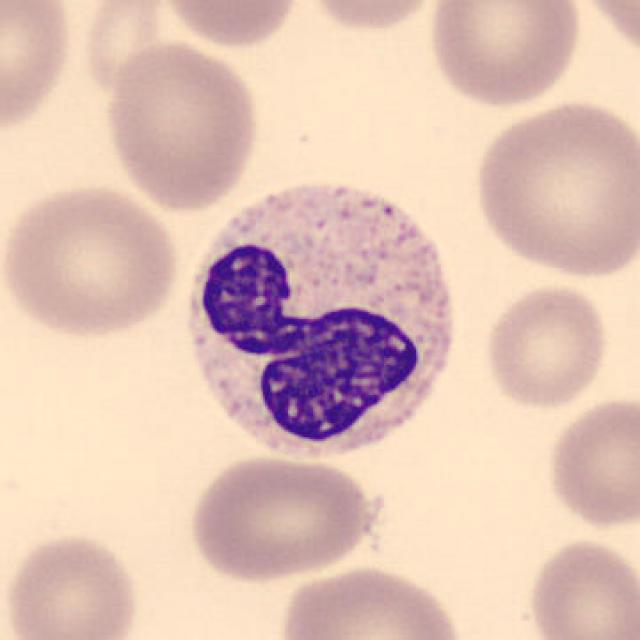Neutrophil: (169, 164, 471, 476)
RBC: (468, 94, 638, 282), (0, 180, 185, 342), (100, 37, 263, 213), (181, 452, 386, 586), (423, 0, 585, 111), (480, 278, 613, 412), (0, 529, 144, 640), (273, 560, 469, 640), (542, 392, 638, 532), (522, 534, 640, 640), (0, 0, 78, 143), (76, 0, 184, 102), (155, 0, 302, 51), (298, 0, 446, 35), (572, 0, 640, 67)
